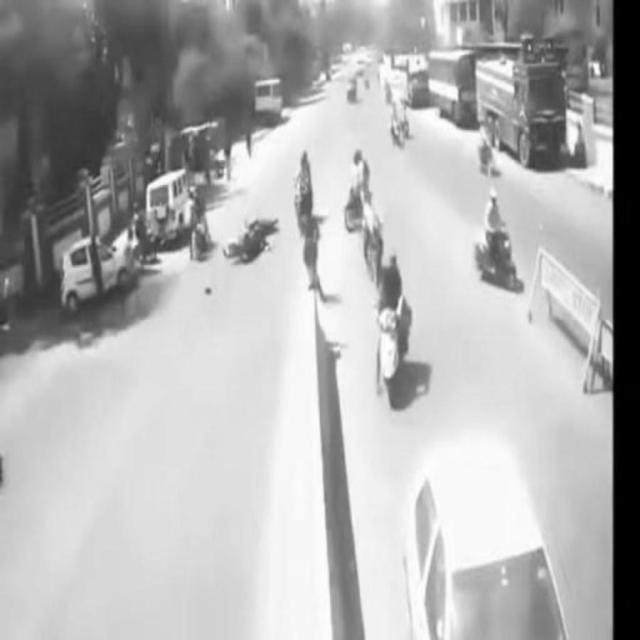vehicle: (408, 450, 570, 640), (472, 62, 570, 165), (376, 255, 416, 409), (62, 234, 132, 305), (472, 196, 520, 289), (144, 171, 202, 242)
